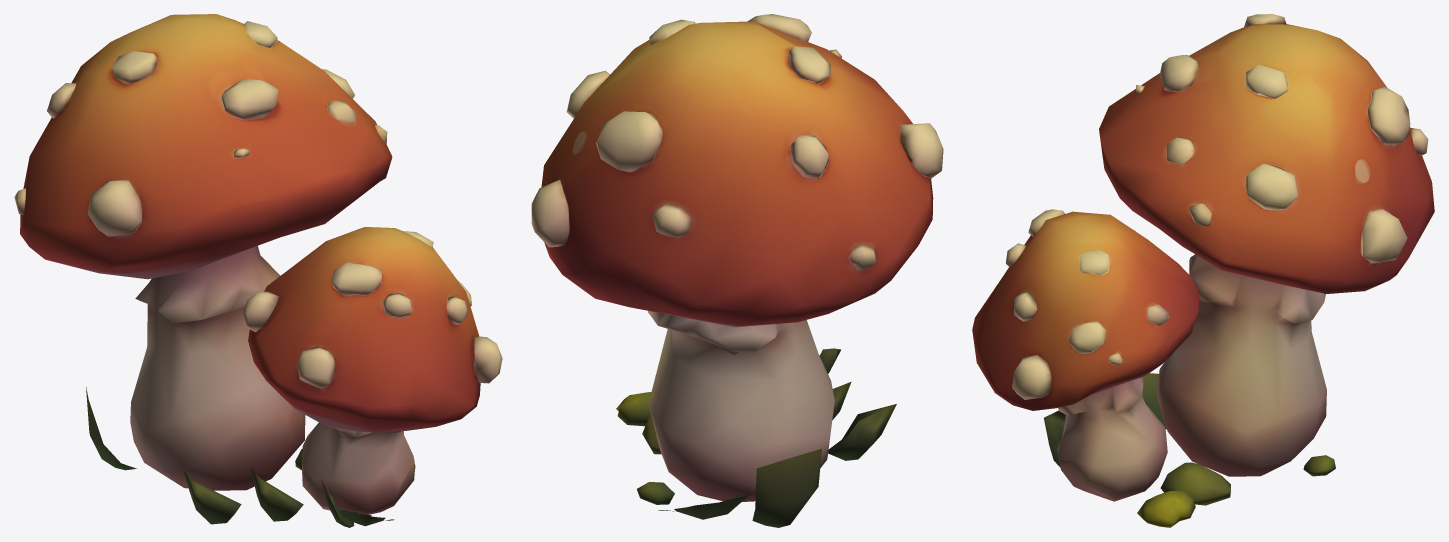
The picture shows the model from 3 angles, left to right: view 1: azimuth 30°, elevation 25°; view 2: azimuth 150°, elevation 25°; view 3: azimuth 270°, elevation 25°; orthographic projection. The views are drawn at different scales.
Parts seen in each view (by area): view 1: tripo_node_e1d0eb02-cebb-44d2-ade5-5497cc7b971b; view 2: tripo_node_e1d0eb02-cebb-44d2-ade5-5497cc7b971b; view 3: tripo_node_e1d0eb02-cebb-44d2-ade5-5497cc7b971b.
Boxes of the visible parts, <box> form: tripo_node_e1d0eb02-cebb-44d2-ade5-5497cc7b971b: <box>14,14,502,527</box>; tripo_node_e1d0eb02-cebb-44d2-ade5-5497cc7b971b: <box>531,14,943,527</box>; tripo_node_e1d0eb02-cebb-44d2-ade5-5497cc7b971b: <box>972,14,1434,527</box>.
Size of the model in its own units: 0.8184 by 0.998 by 0.998.
1 material, 1 textured.
